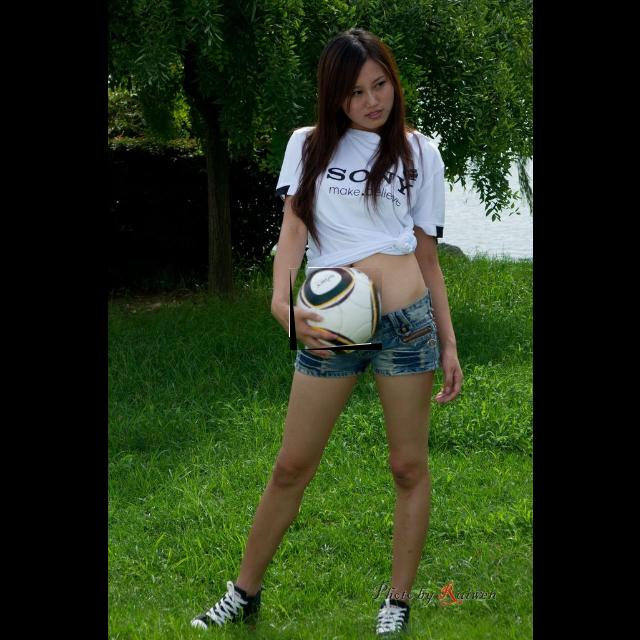Football: (290, 268, 382, 350)
